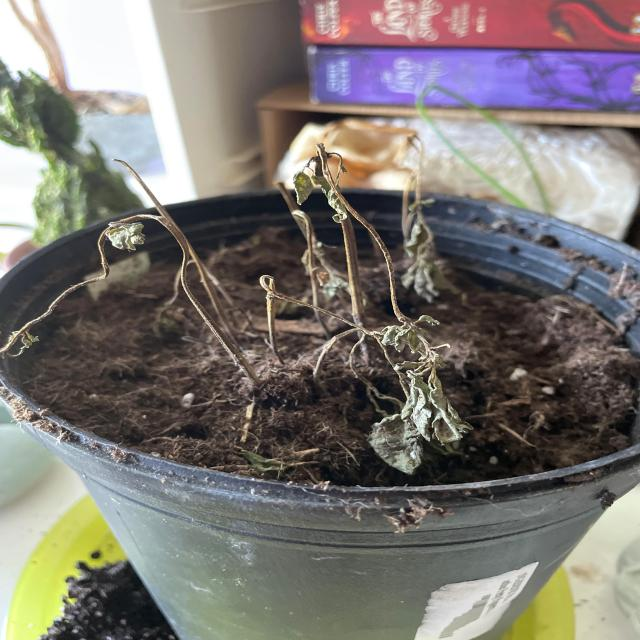unhealthy: (96, 149, 492, 478)
